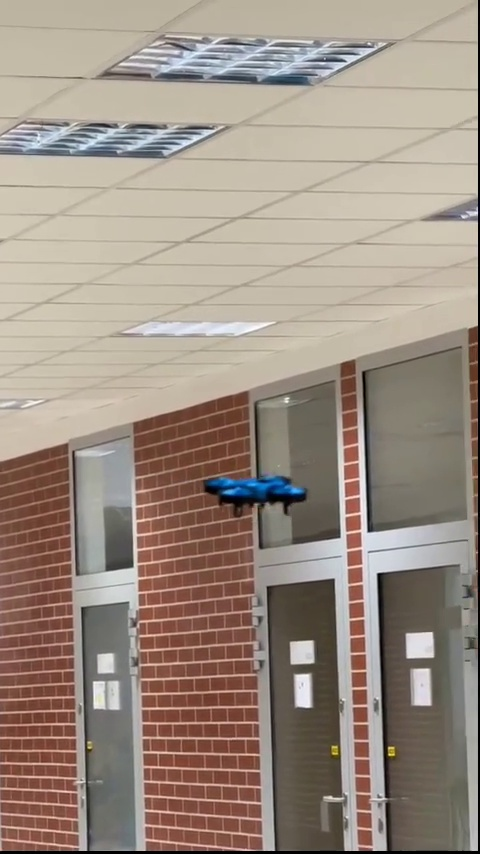drone: (204, 470, 310, 517)
